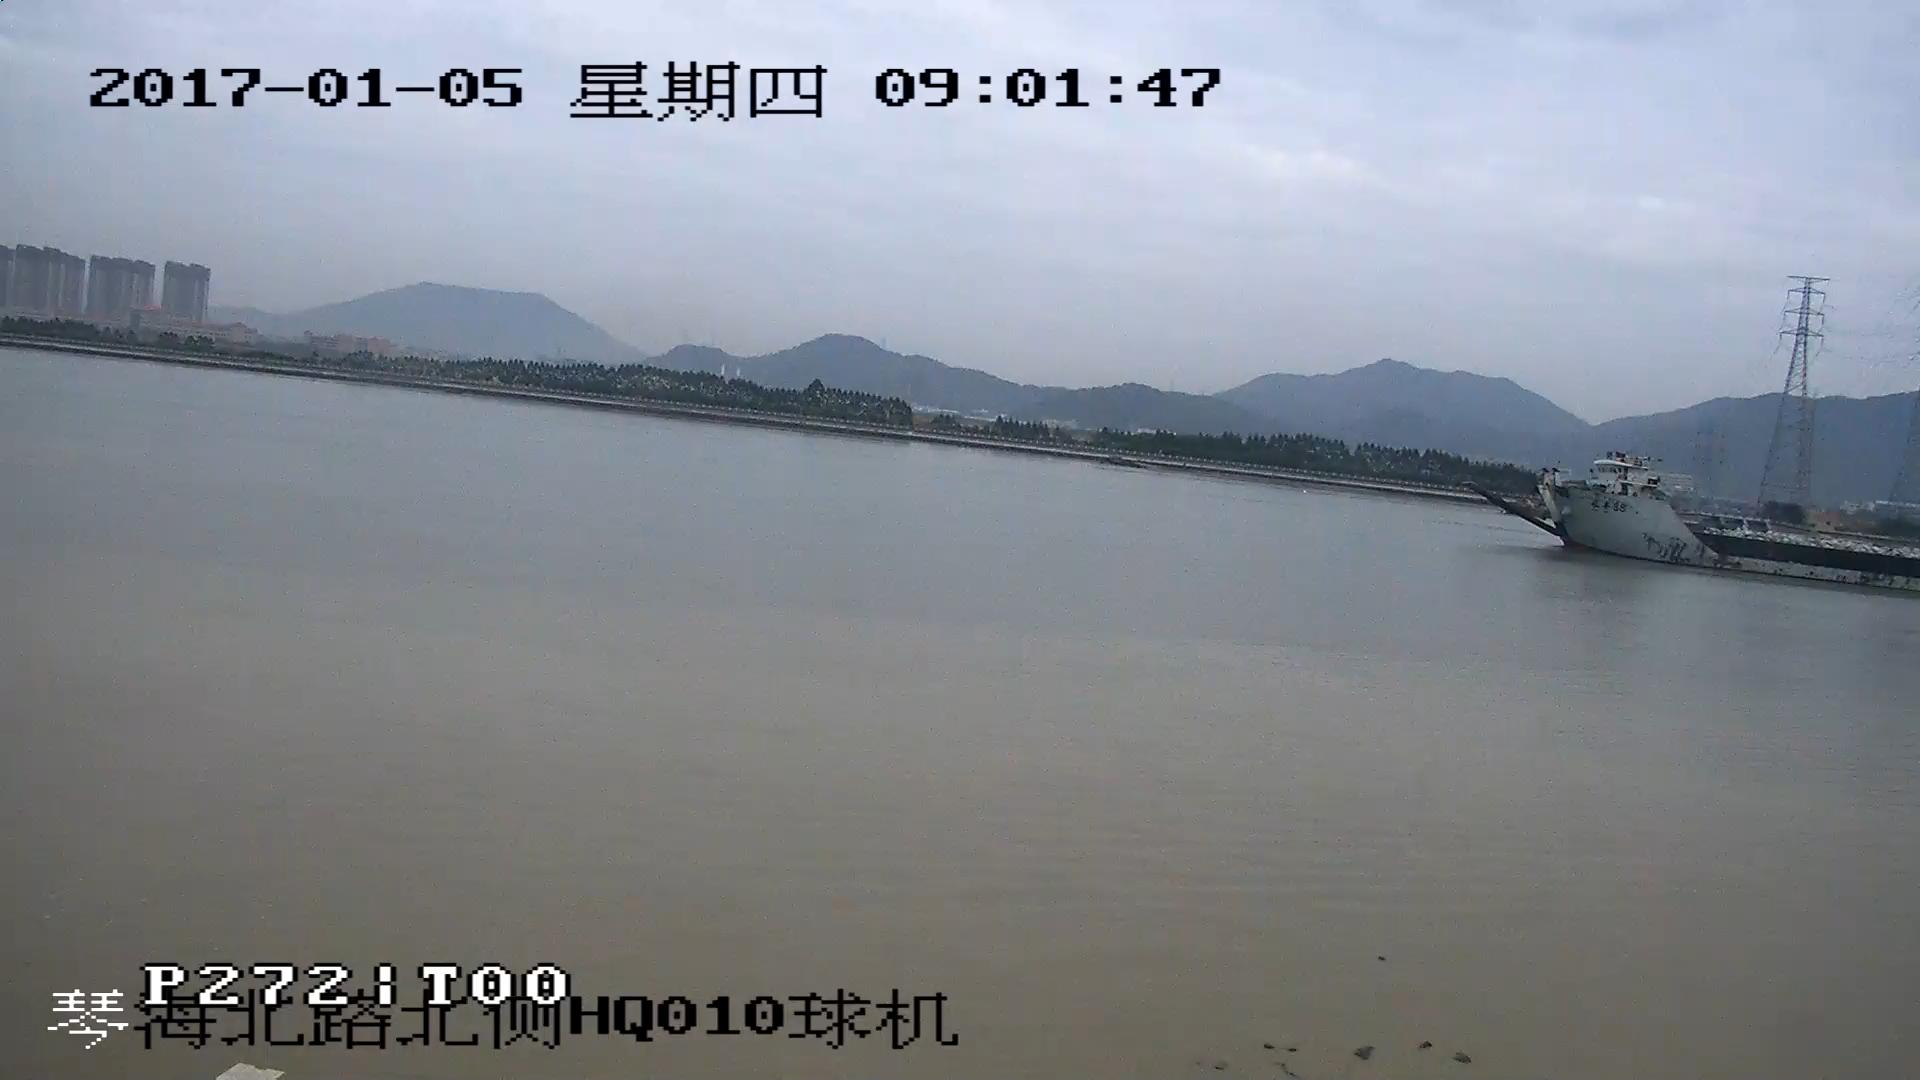bulk cargo carrier: (1475, 458, 1920, 597)
